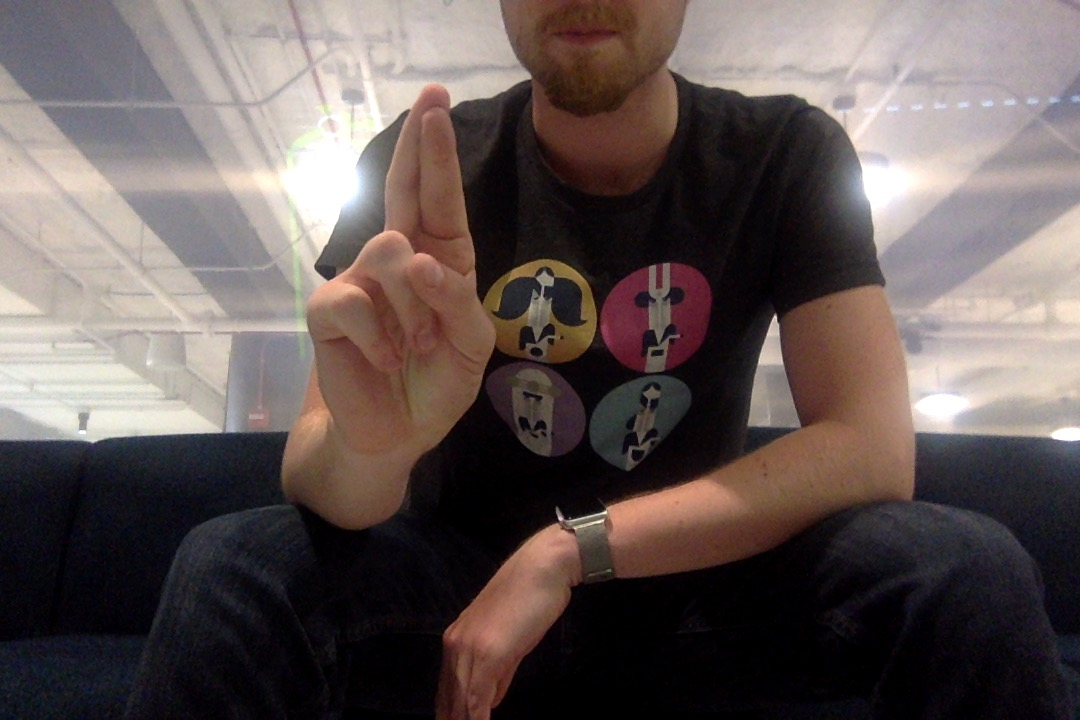r: (298, 78, 506, 457)
